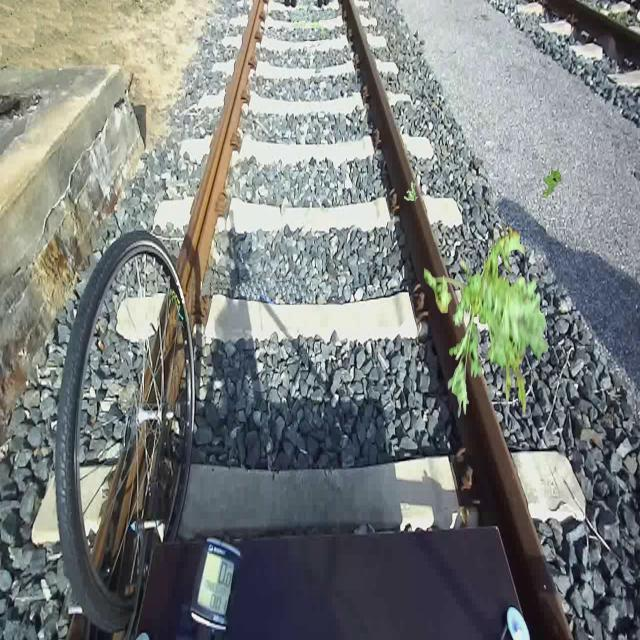Plant: (424, 223, 549, 419), (542, 167, 562, 200), (404, 181, 418, 202)
